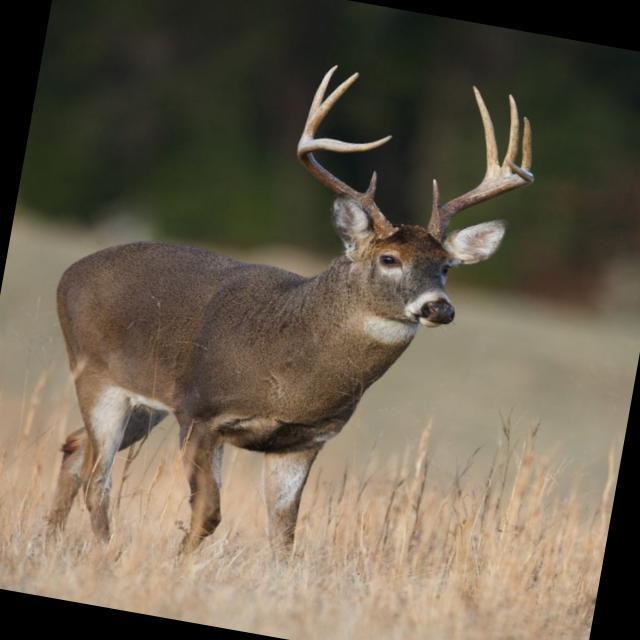L-F: (427, 157, 534, 241)
L-G1: (431, 178, 440, 213)
L-G3: (298, 72, 359, 145)
R-F: (296, 134, 395, 238)
R-G1: (365, 171, 377, 201)
R-G2: (471, 85, 501, 175)
